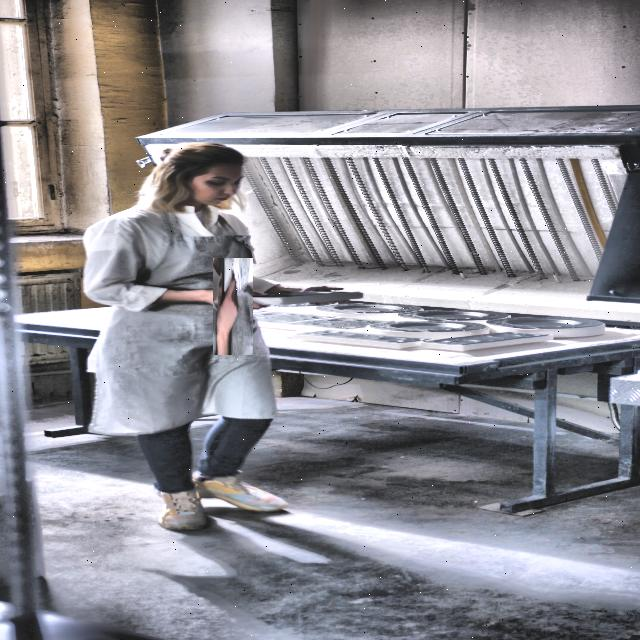not-gloved: (198, 272, 268, 341)
